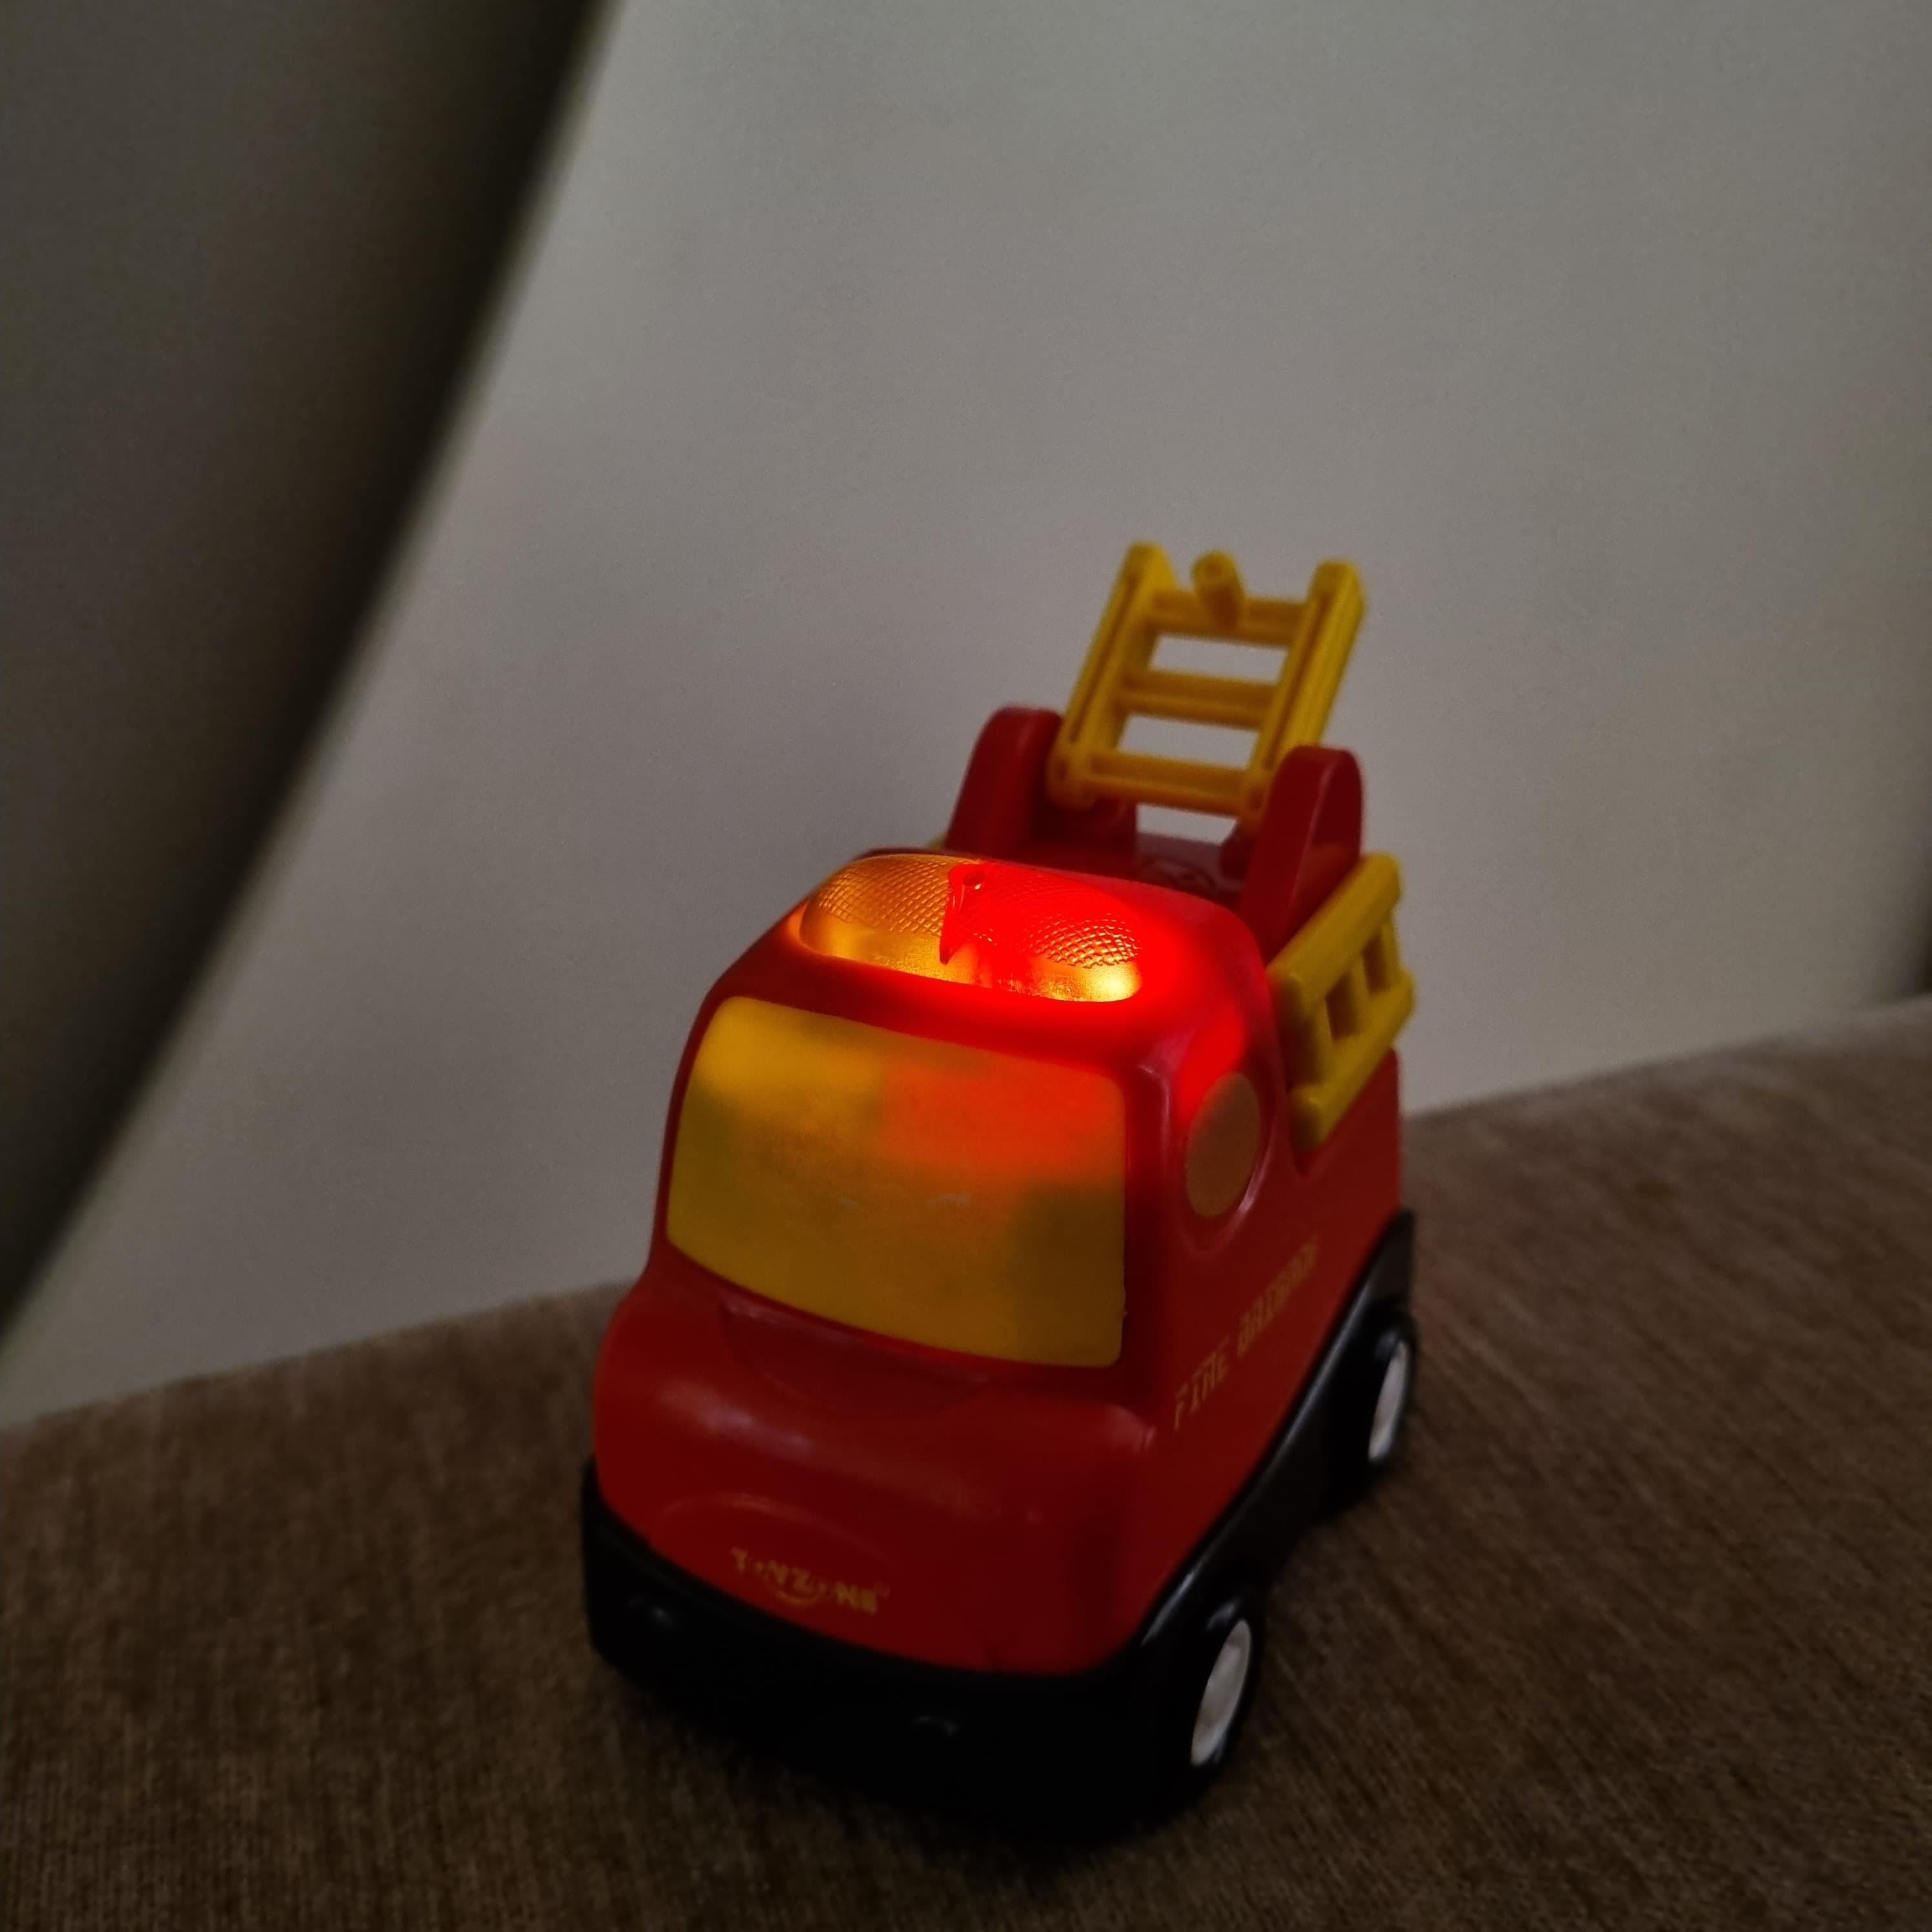firetruck_on: (570, 540, 1440, 1833)
